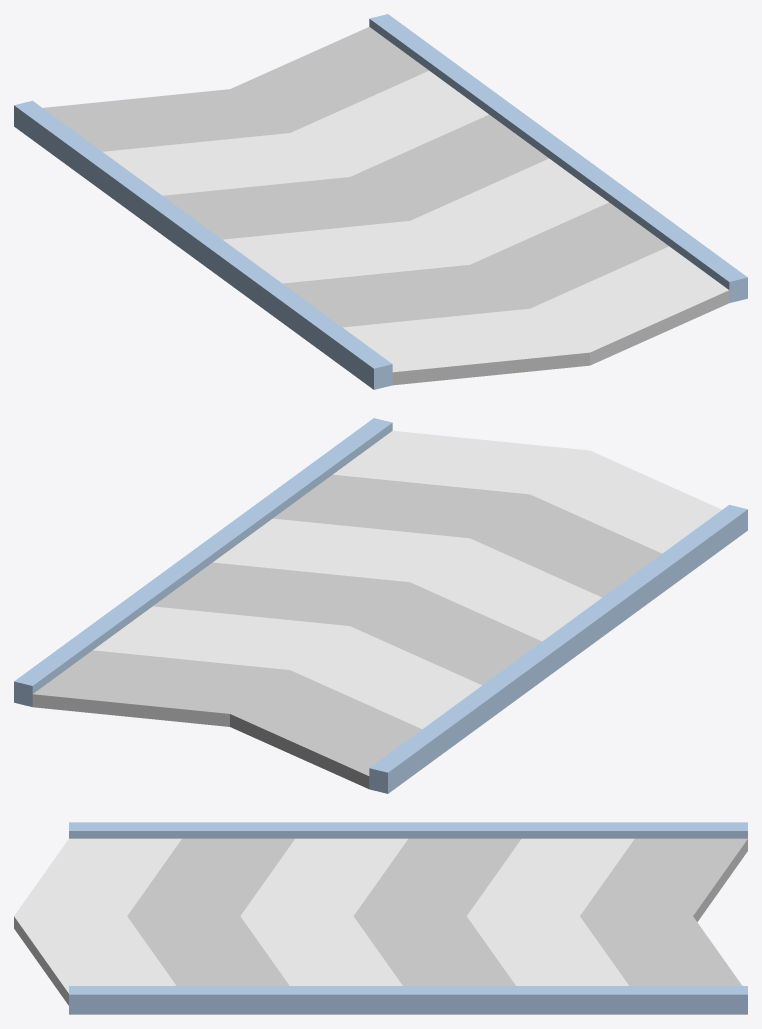
The model's file is Platform.fbx.
The picture shows the model from 3 angles, top to bottom: view 1: azimuth 30°, elevation 25°; view 2: azimuth 150°, elevation 25°; view 3: azimuth 270°, elevation 25°; orthographic projection. The views are drawn at different scales.
Visible parts, largest first — view 1: Platform; view 2: Platform; view 3: Platform.
Part boxes in pixels (bbox=[...]): Platform: bbox=[14, 14, 747, 389]; Platform: bbox=[14, 418, 747, 793]; Platform: bbox=[14, 822, 747, 1014].
Size of the model in its own units: 15.45 by 0.8374 by 27.84.
